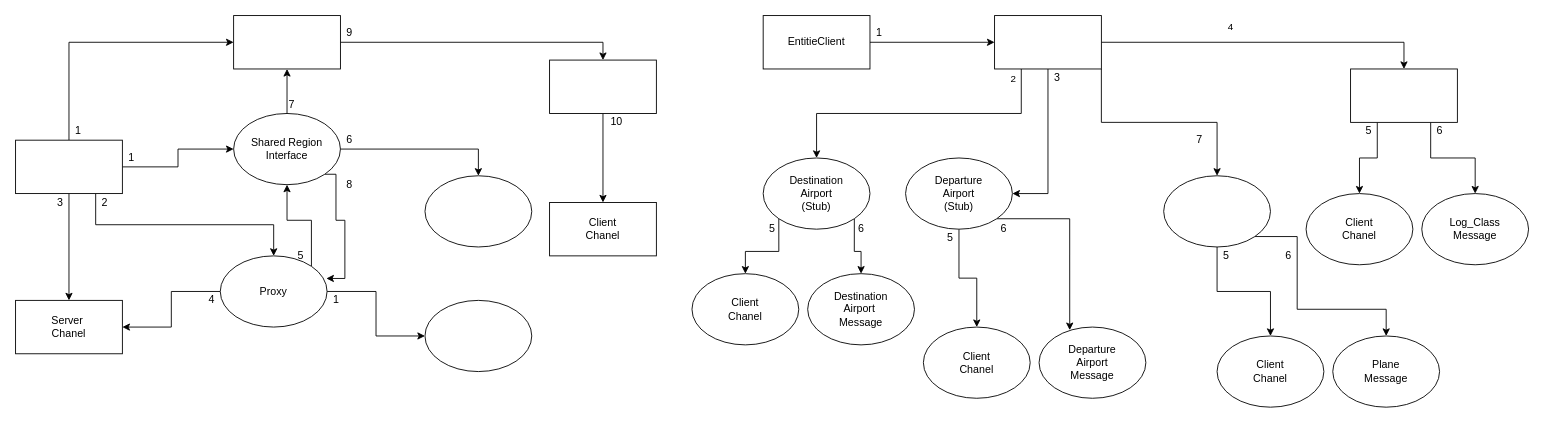
Image size: 1544x423. Some labels were removed from this diagram. The shapes that lost their labels are listed below. From the top down, each one's centre as x and y in pixels, then its label:
At [286,42]: "Shared Region".
At [1047,42]: "Entitie".
At [602,86]: "Log_Class".
At [1403,95]: "Log_Class (Stub)".
At [68,166]: "Shared Region Server".
At [478,211]: "Shared Region Message".
At [1216,211]: "Plane (Stub)".
At [478,335]: "Message".
